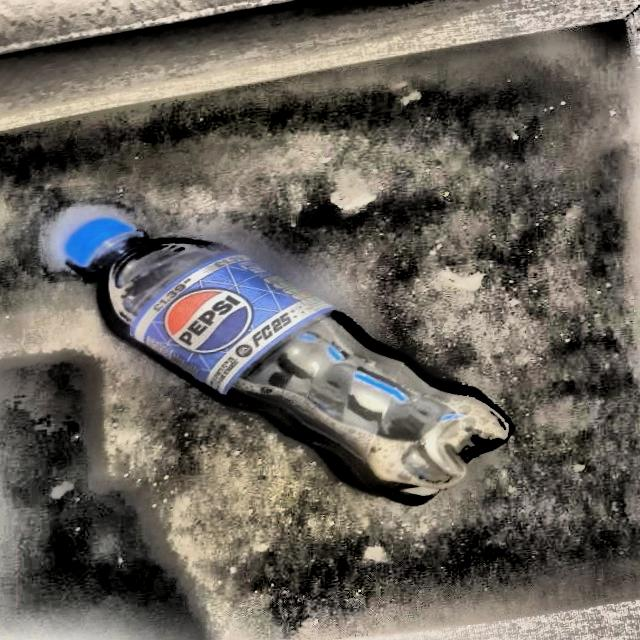pepsi-bottle: (56, 213, 512, 507)
